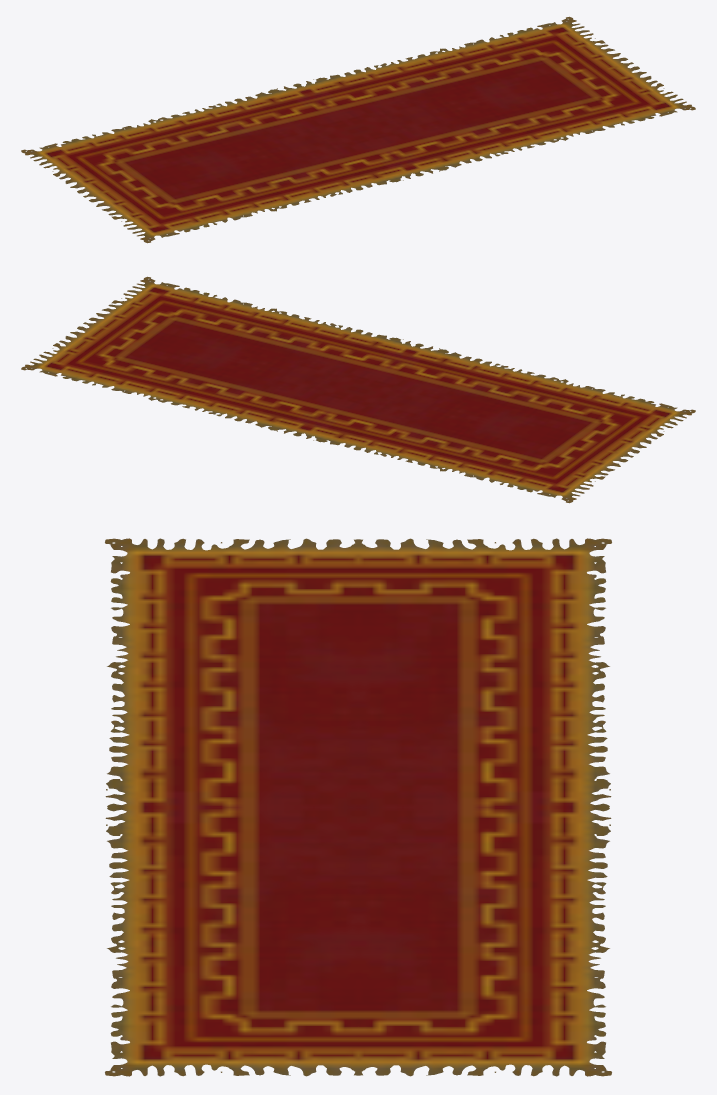
Rendered from Carpet_1B.fbx.
3 views of the same model, one above another, from view 1: azimuth 30°, elevation 25°; view 2: azimuth 150°, elevation 25°; view 3: azimuth 270°, elevation 25° (orthographic). The views are drawn at different scales.
Parts seen in each view (by area): view 1: pPlane91; view 2: pPlane91; view 3: pPlane91.
Boxes of the visible parts, left/top/right/bottom form: pPlane91: left=21, top=16, right=695, bottom=243; pPlane91: left=21, top=276, right=695, bottom=503; pPlane91: left=105, top=538, right=611, bottom=1076.
Bounding box in the file's own units: 7 × 3.11e-16 × 2.8.
